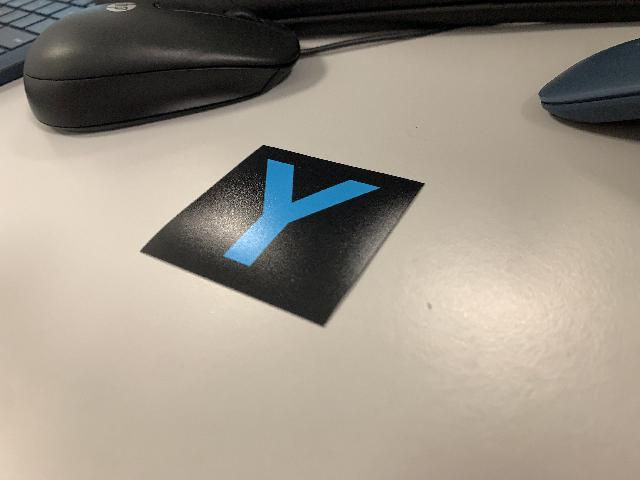y: (137, 141, 428, 337)
